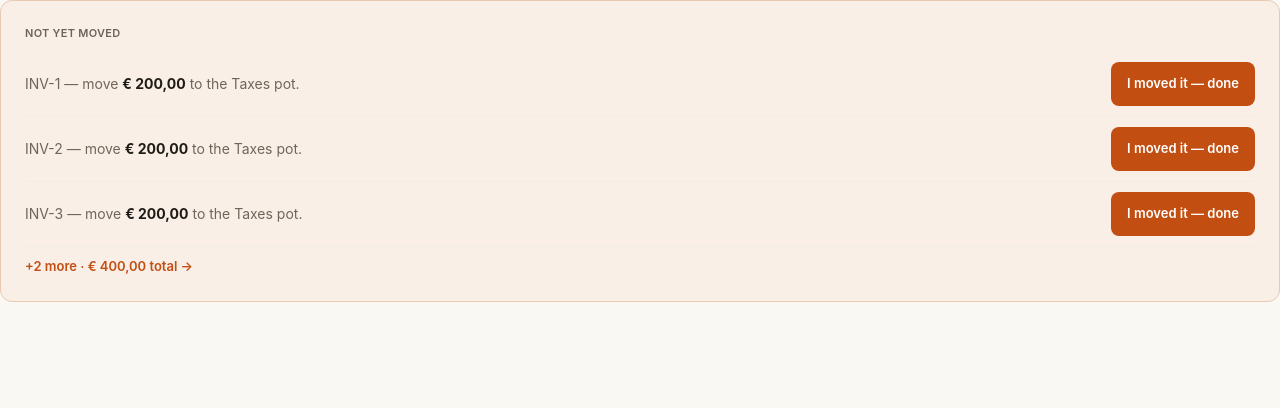
Scenario: PinnedSplitsBanner › caps rendering at 3 and reveals the rest only after the overflow link is clicked
The width and height of the screenshot is (1280, 408).
Expected: the text "INV-1 — move € 200,00 to the Taxes pot." is shown, x1=25 y1=74 x2=300 y2=94
Expected: the text "INV-3 — move € 200,00 to the Taxes pot." is shown, x1=25 y1=204 x2=302 y2=224
Click the button "+2 more · € 400,00 total →". click: (109, 266)
box: x1=25 y1=256 x2=193 y2=276
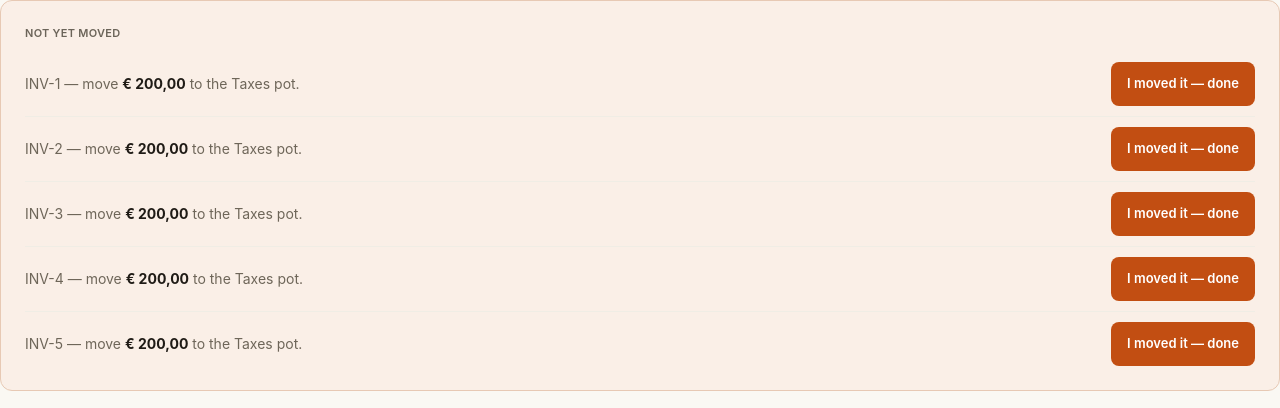
Result: the text "INV-4 — move € 200,00 to the Taxes pot." is shown at x1=25 y1=268 x2=303 y2=288
Result: the text "INV-5 — move € 200,00 to the Taxes pot." is shown at x1=25 y1=334 x2=302 y2=354
Result: the button "more" is gone
